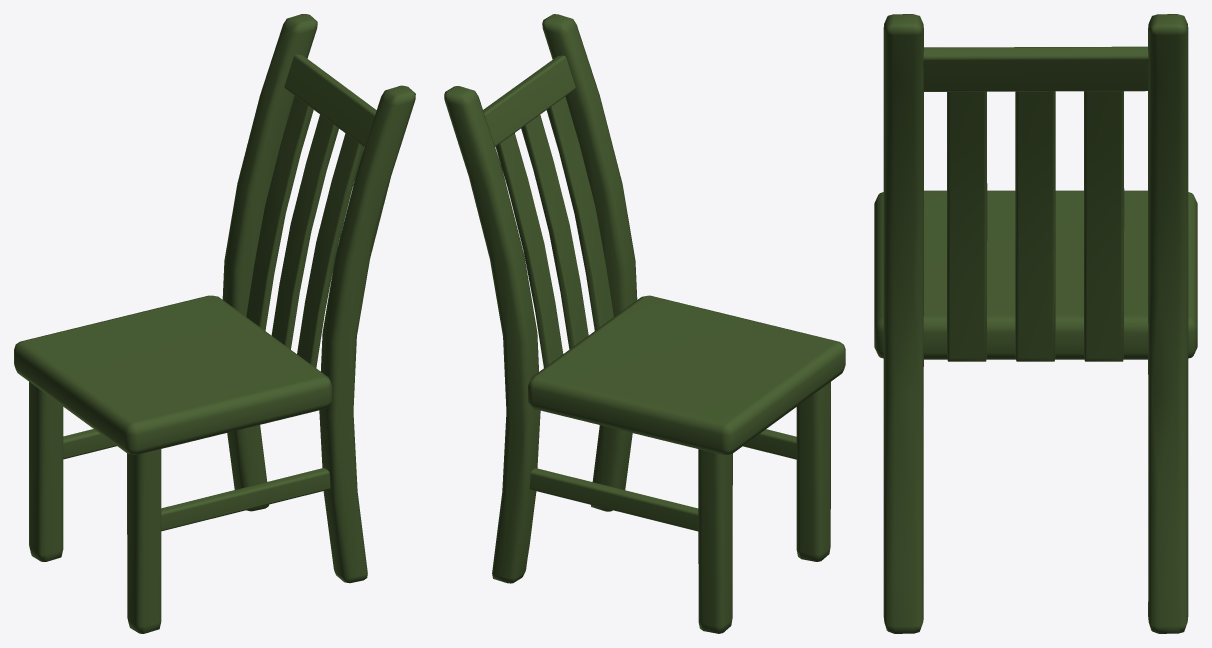
File: chair_04_green.fbx
The picture shows the model from 3 angles, left to right: view 1: azimuth 30°, elevation 25°; view 2: azimuth 150°, elevation 25°; view 3: azimuth 270°, elevation 25°; orthographic projection. The views are drawn at different scales.
Parts seen in each view (by area): view 1: chair_04_green; view 2: chair_04_green; view 3: chair_04_green.
Part boxes in pixels (<box>): chair_04_green: <box>14,14,415,633</box>; chair_04_green: <box>444,14,845,633</box>; chair_04_green: <box>874,14,1197,633</box>.
Bounding box in the file's own units: 67.91 × 106 × 48.29.
Materials: 1 (1 with a texture image).
